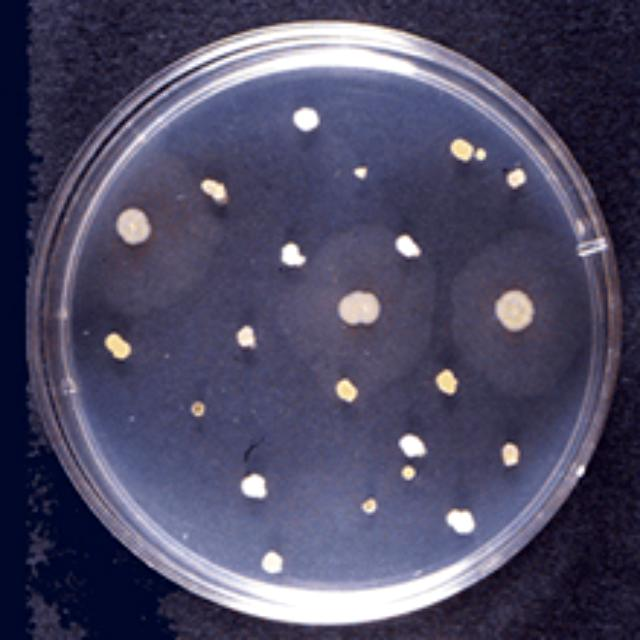colony: (495, 290, 535, 332), (339, 291, 380, 326), (116, 208, 151, 244), (105, 332, 131, 359), (446, 509, 474, 534), (292, 108, 320, 132), (281, 241, 306, 267), (395, 234, 422, 258), (435, 369, 458, 396), (201, 179, 225, 204), (336, 378, 359, 402), (241, 475, 264, 498), (399, 435, 422, 458), (451, 139, 474, 162), (501, 441, 520, 467), (261, 550, 282, 573), (505, 168, 528, 188), (238, 325, 254, 348), (401, 465, 416, 481), (191, 401, 205, 417), (361, 498, 373, 514), (356, 168, 368, 179), (475, 148, 485, 161)
